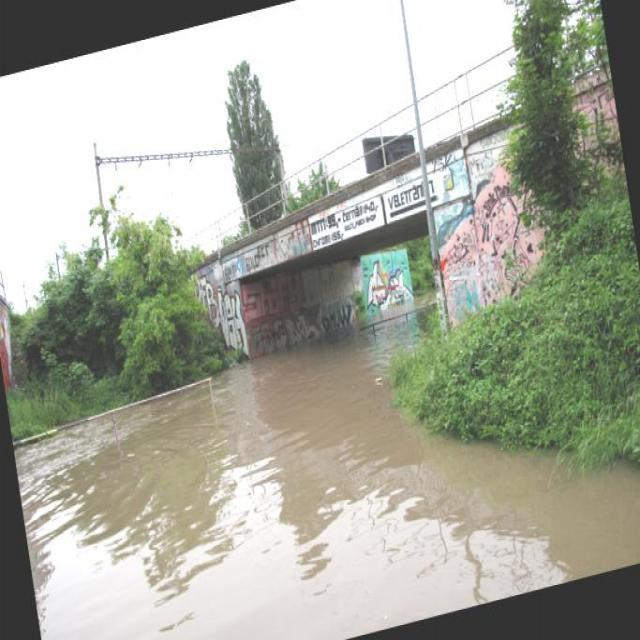flood: (7, 244, 639, 639)
